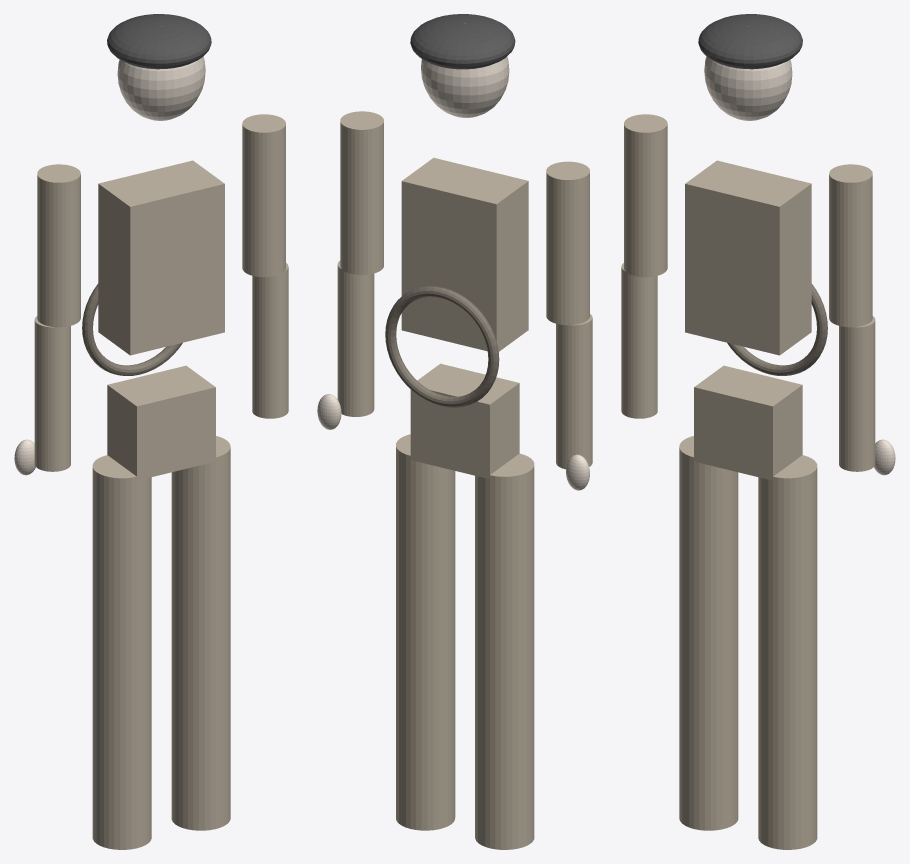
File: 玩家化身_粗模.glb
The picture shows the model from 3 angles, left to right: view 1: azimuth 30°, elevation 25°; view 2: azimuth 150°, elevation 25°; view 3: azimuth 330°, elevation 25°; orthographic projection.
Visible parts, largest first — view 1: 玩家化身_Leg.001, 玩家化身_Leg, 玩家化身_Torso, 玩家化身_Waist, 玩家化身_ArmUpper.001, 玩家化身_ArmUpper, 玩家化身_ArmLower.001, 玩家化身_ArmLower, 玩家化身_Hair, 玩家化身_Head, 玩家化身_Belt, 玩家化身_Hand.001; view 2: 玩家化身_Leg.001, 玩家化身_Leg, 玩家化身_Torso, 玩家化身_Waist, 玩家化身_ArmUpper.001, 玩家化身_ArmUpper, 玩家化身_ArmLower, 玩家化身_ArmLower.001, 玩家化身_Hair, 玩家化身_Belt, 玩家化身_Head, 玩家化身_Hand (+1 smaller); view 3: 玩家化身_Leg, 玩家化身_Leg.001, 玩家化身_Torso, 玩家化身_Waist, 玩家化身_ArmUpper, 玩家化身_ArmUpper.001, 玩家化身_ArmLower, 玩家化身_ArmLower.001, 玩家化身_Hair, 玩家化身_Head, 玩家化身_Belt, 玩家化身_Hand.
Boxes of the visible parts, <box> form: 玩家化身_Leg.001: <box>92,455,151,849</box>; 玩家化身_Leg: <box>171,436,230,830</box>; 玩家化身_Torso: <box>98,160,224,355</box>; 玩家化身_Waist: <box>107,365,215,480</box>; 玩家化身_ArmUpper.001: <box>37,164,80,327</box>; 玩家化身_ArmUpper: <box>242,114,285,277</box>; 玩家化身_ArmLower.001: <box>34,316,70,471</box>; 玩家化身_ArmLower: <box>252,263,288,418</box>; 玩家化身_Hair: <box>107,14,211,69</box>; 玩家化身_Head: <box>117,26,205,120</box>; 玩家化身_Belt: <box>82,283,182,375</box>; 玩家化身_Hand.001: <box>14,439,35,475</box>; 玩家化身_Leg.001: <box>475,453,534,849</box>; 玩家化身_Leg: <box>396,434,455,830</box>; 玩家化身_Torso: <box>401,157,528,351</box>; 玩家化身_Waist: <box>410,363,519,479</box>; 玩家化身_ArmUpper.001: <box>546,161,589,325</box>; 玩家化身_ArmUpper: <box>340,111,383,274</box>; 玩家化身_ArmLower: <box>337,260,374,416</box>; 玩家化身_ArmLower.001: <box>556,314,592,469</box>; 玩家化身_Hair: <box>410,14,515,69</box>; 玩家化身_Belt: <box>385,286,499,407</box>; 玩家化身_Head: <box>421,23,509,117</box>; 玩家化身_Hand: <box>317,394,341,429</box>; 玩家化身_Leg: <box>758,455,817,849</box>; 玩家化身_Leg.001: <box>679,436,738,830</box>; 玩家化身_Torso: <box>685,160,811,355</box>; 玩家化身_Waist: <box>694,365,802,480</box>; 玩家化身_ArmUpper: <box>829,164,872,327</box>; 玩家化身_ArmUpper.001: <box>624,114,667,277</box>; 玩家化身_ArmLower: <box>839,316,875,471</box>; 玩家化身_ArmLower.001: <box>621,263,657,418</box>; 玩家化身_Hair: <box>698,14,802,69</box>; 玩家化身_Head: <box>704,26,792,120</box>; 玩家化身_Belt: <box>727,283,827,375</box>; 玩家化身_Hand: <box>874,439,895,475</box>.
Size of the model in its own units: 0.6832 by 1.94 by 0.23.
